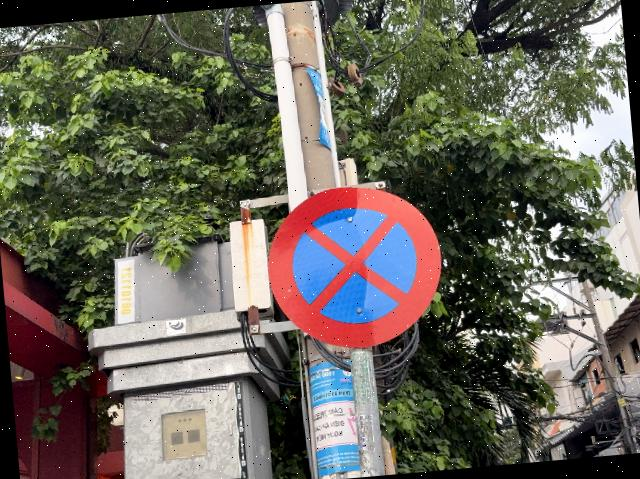cam-dung-va-do-xe: (262, 178, 448, 356)
